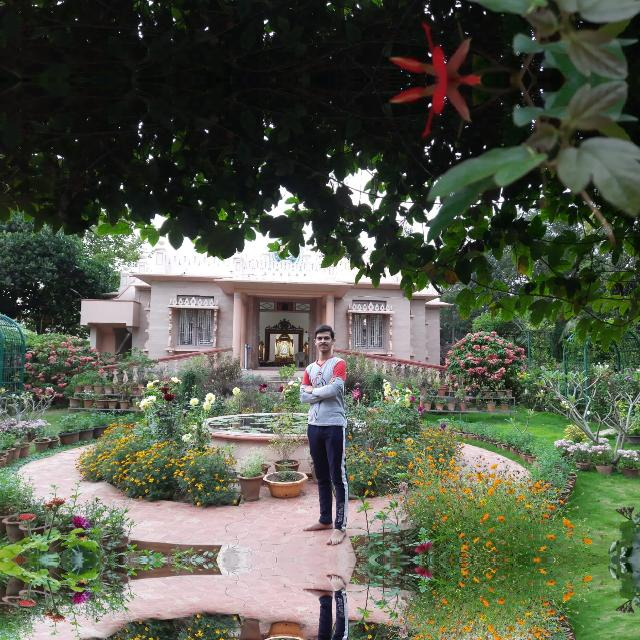person: (304, 322, 354, 552), (303, 567, 354, 640)
